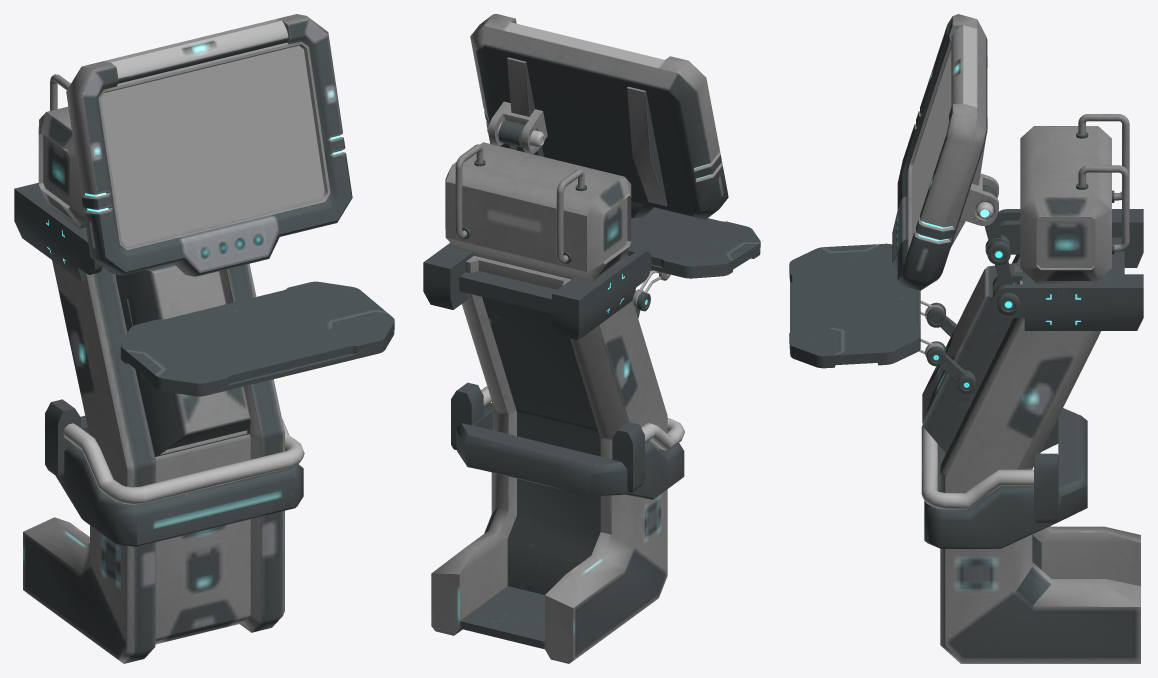
File: computer_2.glb
The picture shows the model from 3 angles, left to right: view 1: azimuth 30°, elevation 25°; view 2: azimuth 150°, elevation 25°; view 3: azimuth 270°, elevation 25°; orthographic projection. The views are drawn at different scales.
Parts seen in each view (by area): view 1: terminal_Terminal_0_23, terminal.013_Terminal_screen_0_17, terminal.010_Terminal_0_15, hinge_bottom_low.006_Terminal_0_4, terminal.003_Terminal_0_29, terminal.006_Terminal_0_35, terminal.007_Terminal_0_37, terminal.005_Terminal_0_33; view 2: terminal_Terminal_0_23, terminal.010_Terminal_0_15, terminal.007_Terminal_0_37, terminal.003_Terminal_0_29, hinge_bottom_low.006_Terminal_0_4, terminal.005_Terminal_0_33, terminal.008_Terminal_0_14, terminal.004_Terminal_0_31, terminal.002_Terminal_0_27, terminal.001_Terminal_0_25, terminal.006_Terminal_0_35, Cylinder.006_Terminal_0_12; view 3: terminal_Terminal_0_23, terminal.010_Terminal_0_15, hinge_bottom_low.006_Terminal_0_4, terminal.007_Terminal_0_37, terminal.003_Terminal_0_29, terminal.006_Terminal_0_35, terminal.013_Terminal_screen_0_17, terminal.004_Terminal_0_31, Cylinder.003_Terminal_0_2, Cylinder.005_Terminal_0_11, terminal.002_Terminal_0_27, terminal.008_Terminal_0_14 (+1 smaller).
Boxes of the visible parts, x1,y1,x2,y2 form: terminal_Terminal_0_23: (23, 106, 284, 663); terminal.013_Terminal_screen_0_17: (101, 45, 324, 244); terminal.010_Terminal_0_15: (66, 14, 352, 276); hinge_bottom_low.006_Terminal_0_4: (120, 281, 394, 396); terminal.003_Terminal_0_29: (56, 415, 303, 546); terminal.006_Terminal_0_35: (63, 418, 304, 504); terminal.007_Terminal_0_37: (14, 182, 102, 281); terminal.005_Terminal_0_33: (45, 399, 80, 477); terminal_Terminal_0_23: (431, 142, 667, 663); terminal.010_Terminal_0_15: (470, 14, 728, 219); terminal.007_Terminal_0_37: (423, 243, 651, 340); terminal.003_Terminal_0_29: (455, 402, 684, 499); hinge_bottom_low.006_Terminal_0_4: (628, 207, 760, 278); terminal.005_Terminal_0_33: (612, 422, 644, 492); terminal.008_Terminal_0_14: (488, 101, 547, 153); terminal.004_Terminal_0_31: (451, 382, 483, 449); terminal.002_Terminal_0_27: (455, 144, 485, 239); terminal.001_Terminal_0_25: (556, 169, 586, 263); terminal.006_Terminal_0_35: (481, 386, 684, 450); Cylinder.006_Terminal_0_12: (498, 120, 525, 150); terminal_Terminal_0_23: (922, 126, 1140, 663); terminal.010_Terminal_0_15: (892, 14, 987, 290); hinge_bottom_low.006_Terminal_0_4: (789, 243, 920, 368); terminal.007_Terminal_0_37: (992, 209, 1143, 330); terminal.003_Terminal_0_29: (924, 408, 1087, 548); terminal.006_Terminal_0_35: (921, 425, 1033, 509); terminal.013_Terminal_screen_0_17: (912, 49, 951, 238); terminal.004_Terminal_0_31: (1034, 453, 1058, 522); Cylinder.003_Terminal_0_2: (927, 302, 976, 393); Cylinder.005_Terminal_0_11: (987, 235, 1020, 315); terminal.002_Terminal_0_27: (1076, 165, 1129, 254); terminal.008_Terminal_0_14: (960, 173, 998, 225).
Size of the model in its own units: 0.7405 by 1.7 by 0.9611.
Materials: 2 (1 with a texture image).
